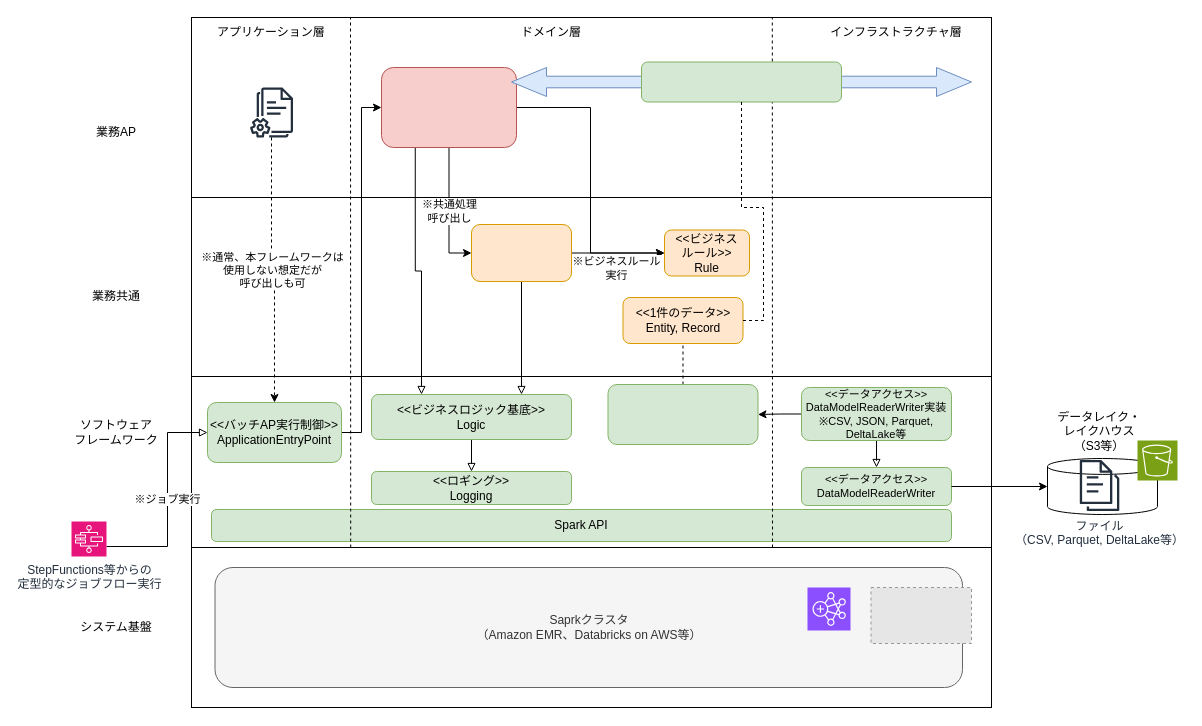
The diagram is 1202 pixels wide and 726 high, and some of its shapes have lost their labels. Grey dashed boxes stand in for pictures. Here are the shapes that lost their labels. From the top down, the centre of each, then its label:
At (x=741, y=81): "<<データセット>> Dataset, DataFrame, RDD".
At (x=271, y=112): "Notebook等での アドホッククエリ実装".
At (x=448, y=107): "<< ビジネスロジック>> Logic".
At (x=521, y=253): "<<共通処理 >> SharedLogic".
At (x=682, y=414): "<<スキーマ定義>> Model ※CSV, JSON, Parquet, DeltaLake等".
At (x=828, y=608): "EMR".
